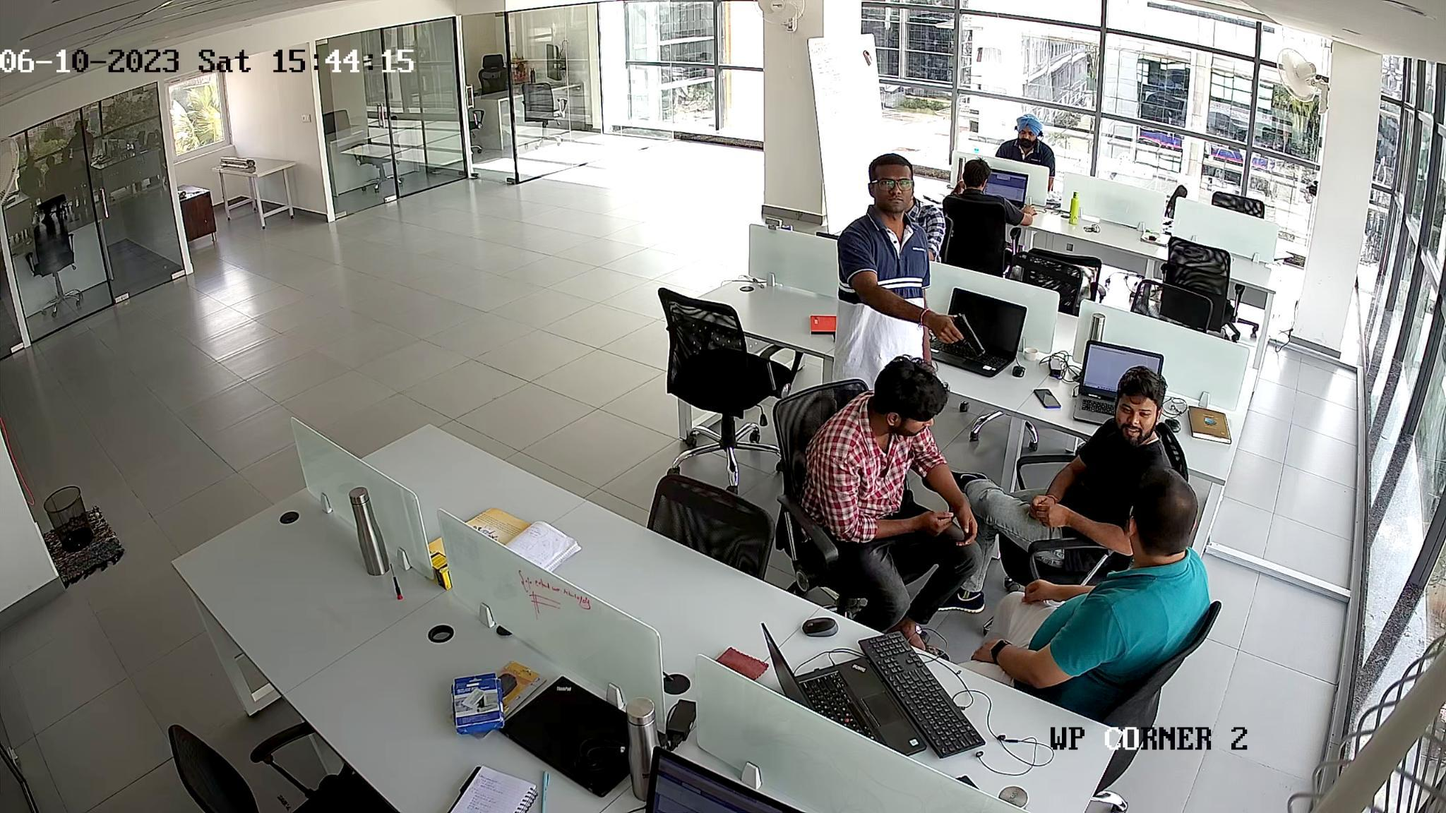gun: (937, 315, 984, 357)
